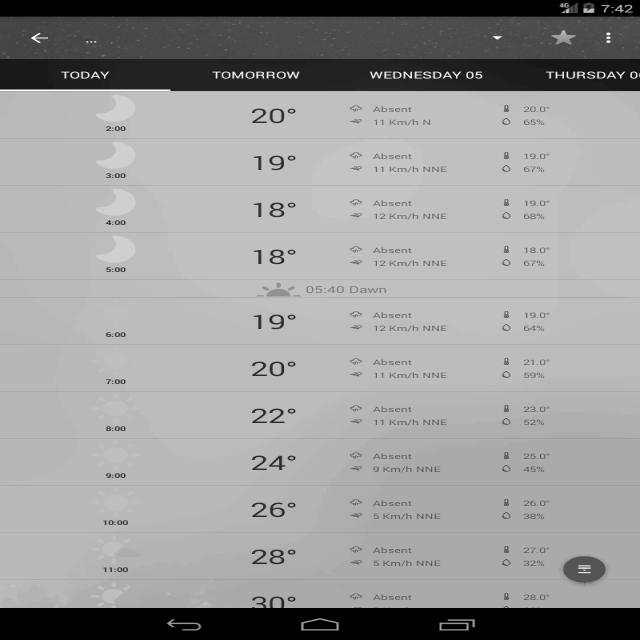ImageButton: (562, 556, 607, 583), (548, 28, 583, 48), (27, 29, 54, 46), (597, 30, 623, 46)
ImageView: (86, 487, 150, 521), (91, 92, 143, 125), (90, 237, 149, 266), (88, 142, 147, 171), (89, 534, 147, 562), (85, 582, 143, 604), (94, 349, 142, 375), (496, 241, 519, 269), (347, 308, 369, 334), (497, 101, 518, 128), (348, 451, 364, 471)
TextView: (371, 195, 454, 223), (369, 149, 451, 175), (368, 67, 492, 83), (374, 402, 448, 428), (204, 68, 310, 86), (542, 65, 634, 85), (369, 101, 436, 128), (244, 545, 301, 571), (249, 451, 303, 475), (512, 450, 555, 477), (250, 245, 298, 269), (57, 66, 124, 83), (248, 102, 291, 126), (519, 150, 557, 177), (520, 308, 554, 334)
